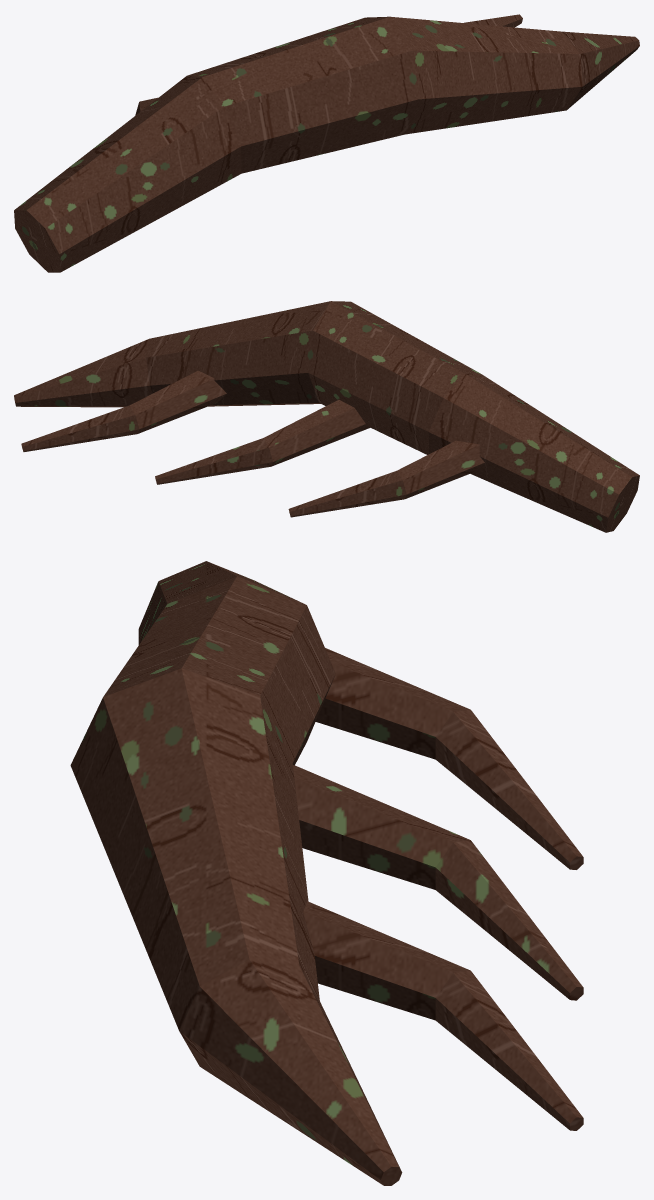
3 renders of one model, top to bottom at view 1: azimuth 30°, elevation 25°; view 2: azimuth 150°, elevation 25°; view 3: azimuth 270°, elevation 25°, orthographic. The views are drawn at different scales.
Parts seen in each view (by area): view 1: ExposedRoot; view 2: ExposedRoot; view 3: ExposedRoot.
Boxes of the visible parts, box(x1,y1,x2,y2) form: ExposedRoot: box(14, 14, 639, 272); ExposedRoot: box(14, 301, 639, 532); ExposedRoot: box(70, 561, 583, 1185).
Size of the model in its own units: 2.14 by 0.5536 by 0.8309.
1 material, 1 textured.
